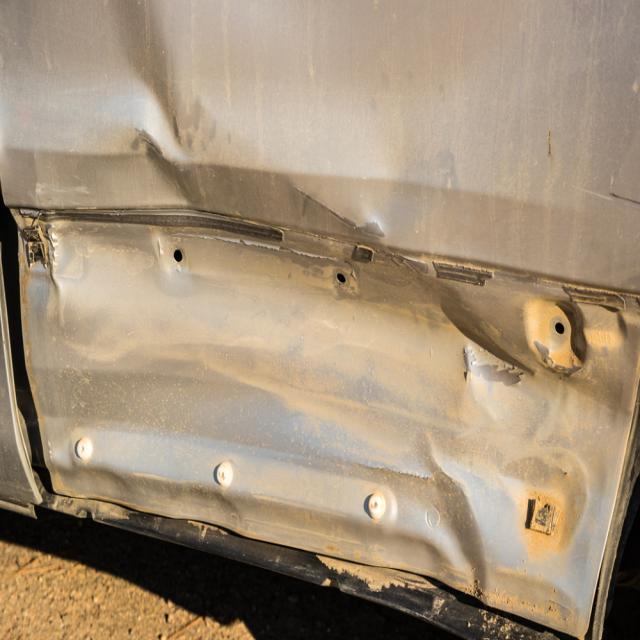dent: (41, 0, 612, 567)
